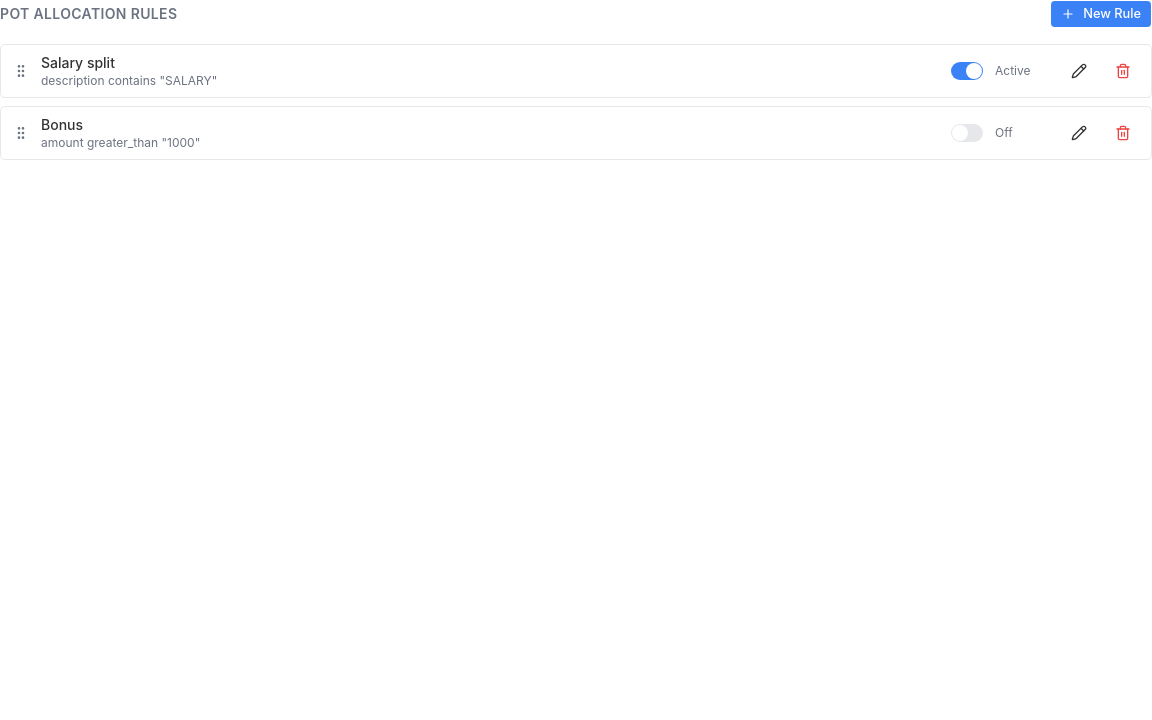
Test case: PotAllocationRulesTab — delete confirmation › shows confirmation dialog when delete is clicked
Click the button named "Delete rule" next to "Active" at (1123, 71), box top-left (1107, 55), bottom-right (1139, 87)
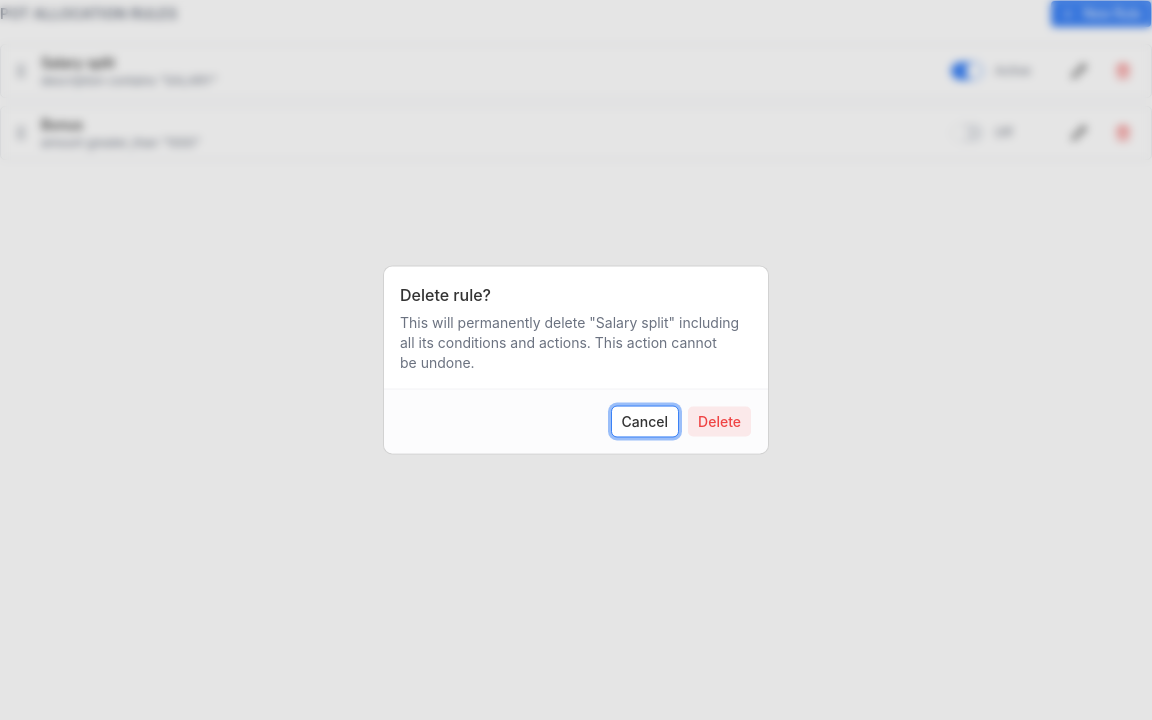
Expected: the button with test id "par-delete-confirm" is shown, top-left (687, 406), bottom-right (752, 438)
